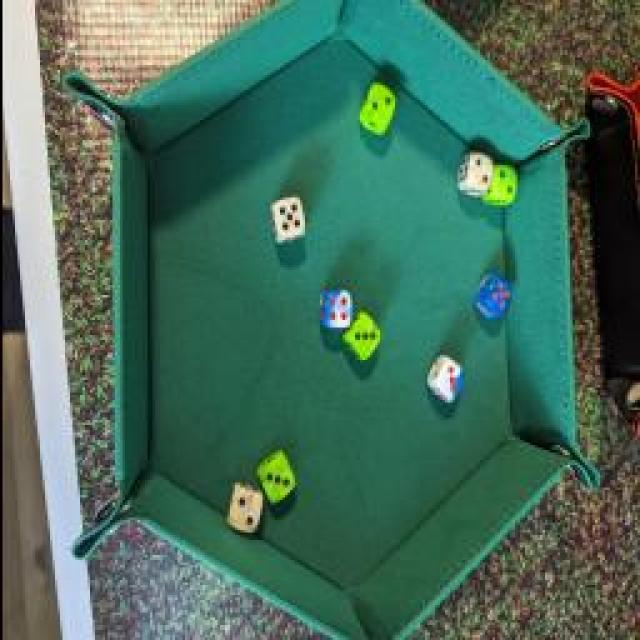dice_2: (355, 76, 395, 134), (225, 482, 265, 536), (482, 160, 516, 215), (452, 150, 492, 195)
dice_3: (422, 350, 468, 408), (252, 446, 298, 502), (341, 310, 381, 360)
dice_4: (314, 282, 351, 332)
dice_5: (265, 191, 305, 249), (471, 275, 511, 320)
